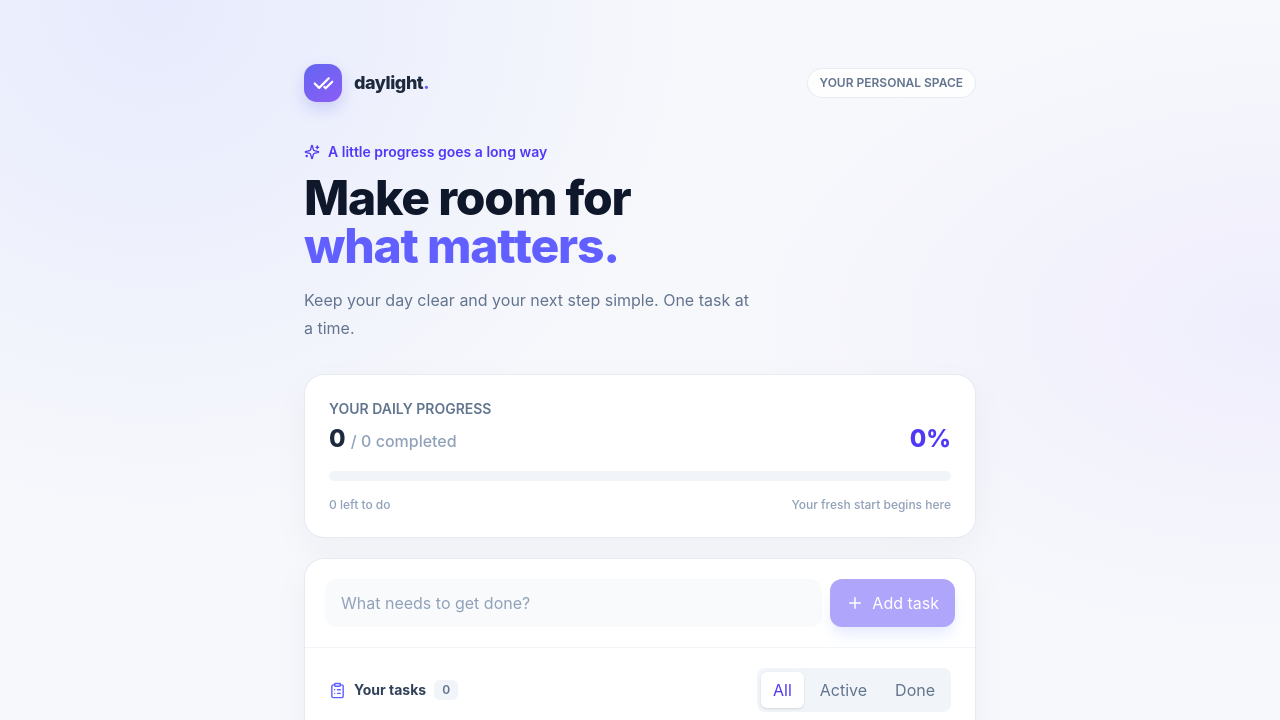
Test: Daylight Todo UI › creates a task through the API and clears the input
Step 1. Type "Test the UI" into the field named "Add a task" → (574, 603), box top-left (325, 579), bottom-right (822, 627)
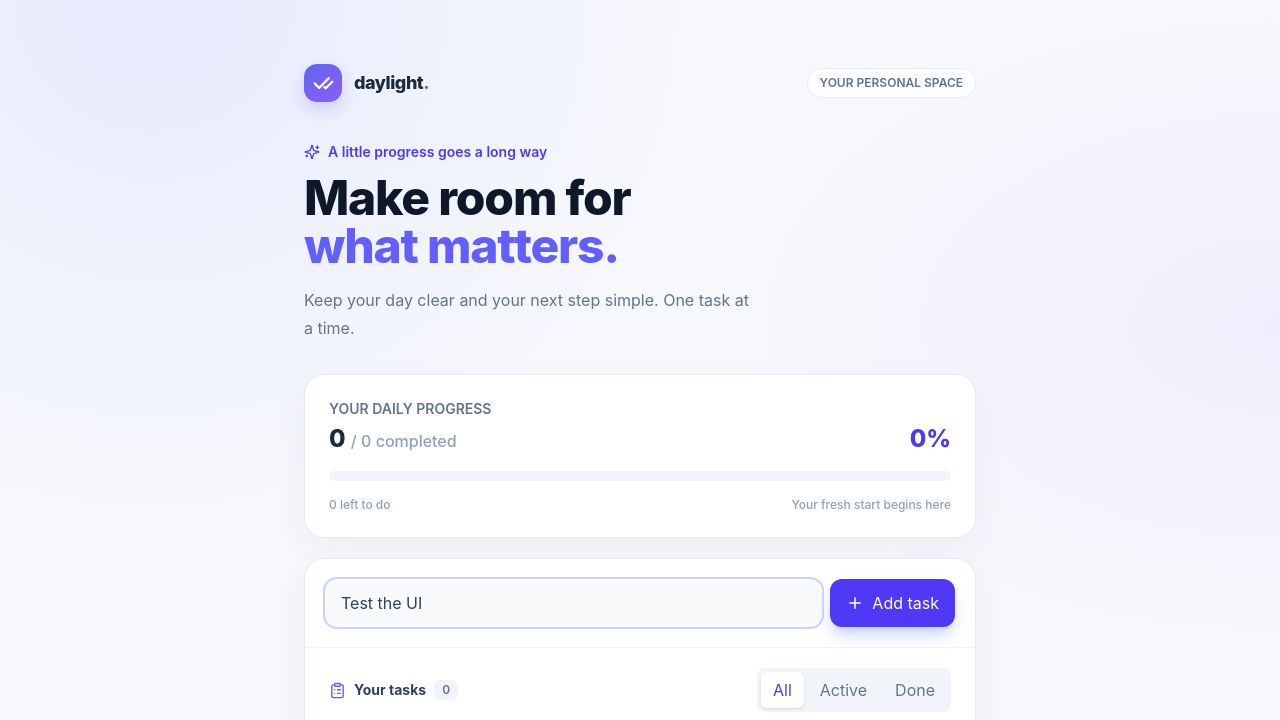
Step 2. Click the button "Add task" → (893, 603), box top-left (830, 579), bottom-right (955, 627)
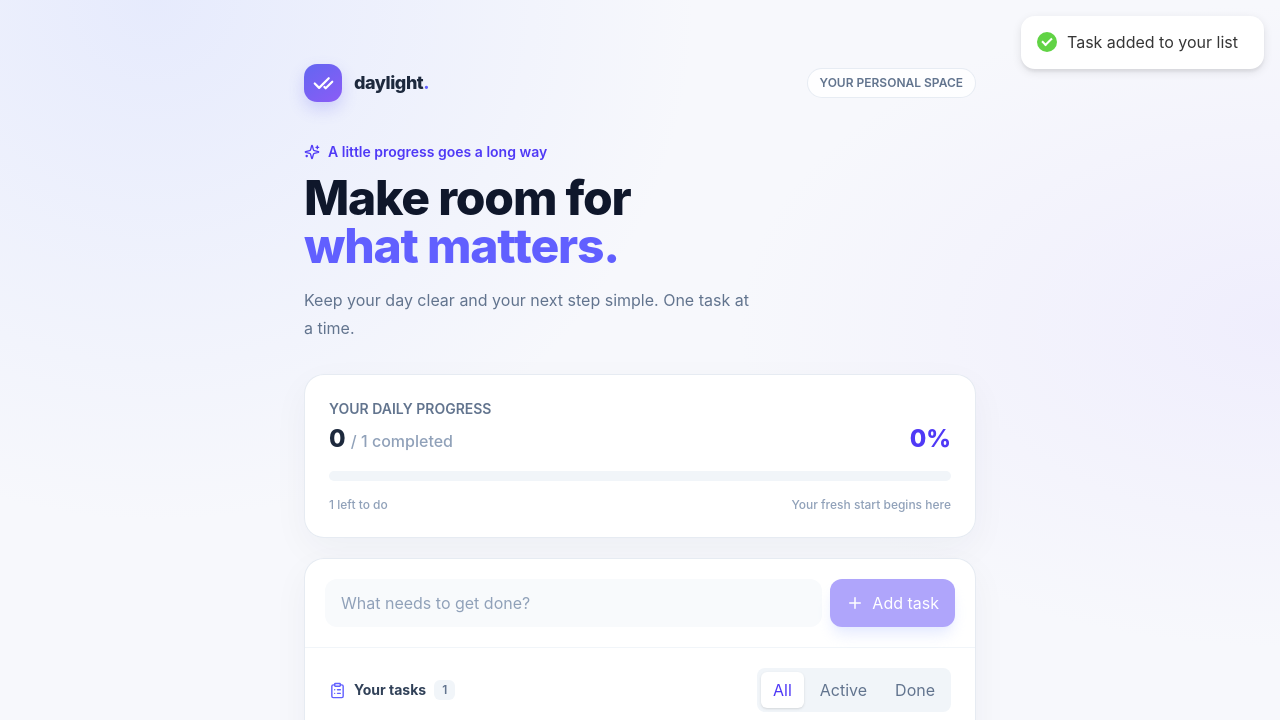
Result: the field named "Add a task" is empty at top-left (325, 579), bottom-right (822, 627)
